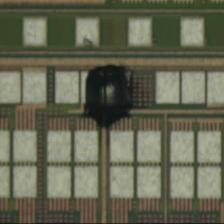PARTICLE: (75, 62, 143, 130)
